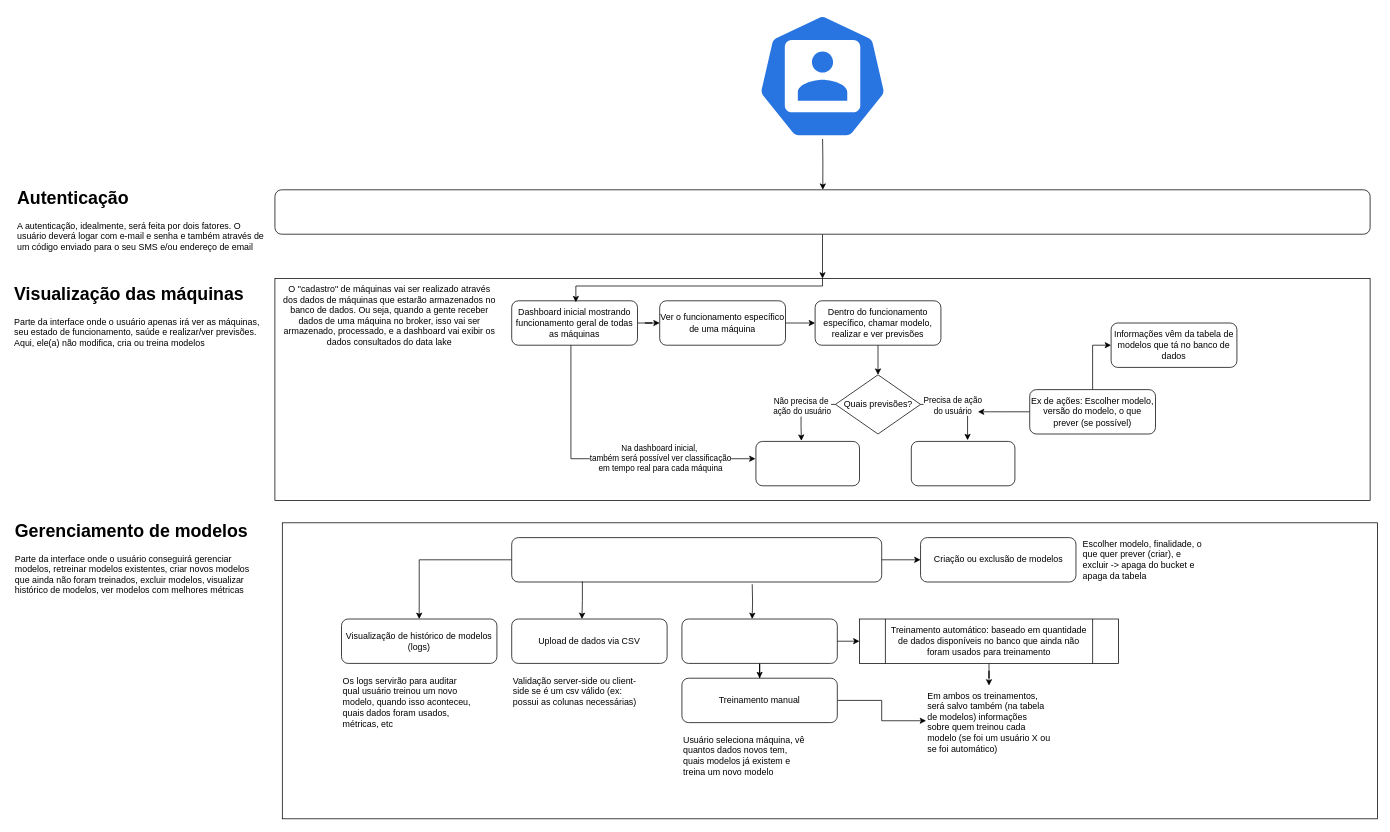
The diagram is 1390 pixels wide and 832 high, and some of its shapes have lost their labels. The box of each missing label's shape, as (x1, y1, x2, y2) in pixels:
Aba de gerenciamento de modelos: (511, 537, 882, 582)
Autenticação: (274, 189, 1370, 234)
Classificação se está em falha/comportamento anormal ou não (em tempo real): (755, 441, 860, 486)
Possível classificação de tempo até falha/indicador de saúde: (911, 441, 1015, 486)
Retreinamento de modelos: (681, 618, 837, 663)
